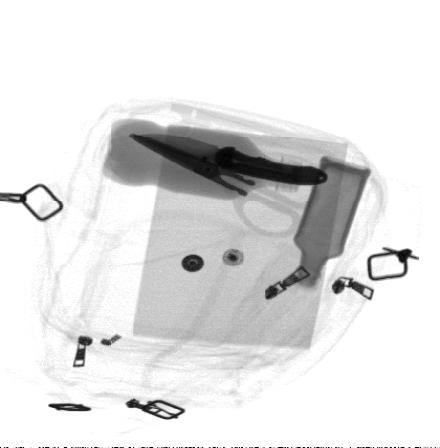Knife: (133, 134, 327, 185)
Scissors: (128, 132, 324, 240)
